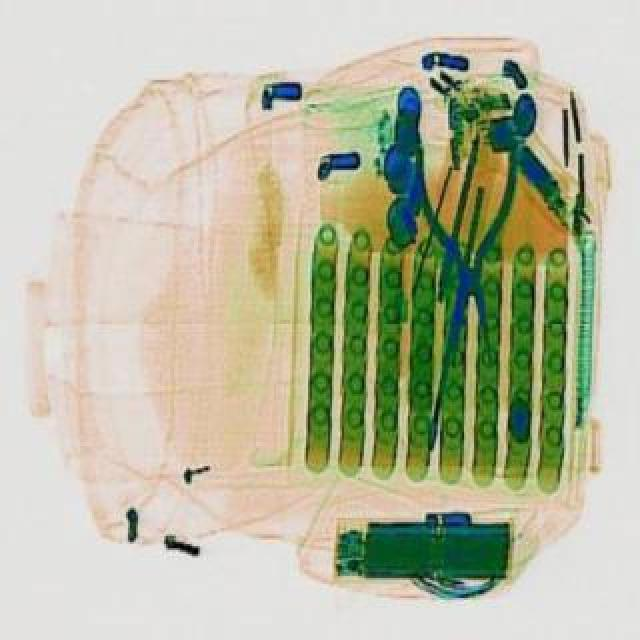wrench: (412, 142, 516, 368)
